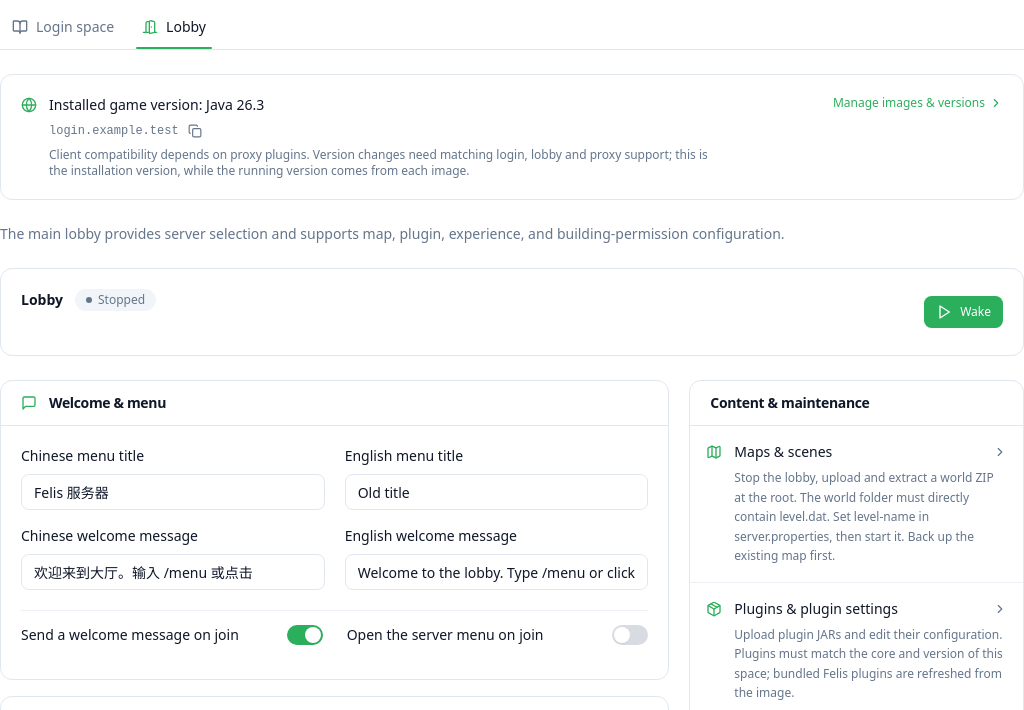
Scenario: LobbyPage › saves with the read hash and preserves unknown plugin settings
Replace the text in the field labelled "English menu title" with "My Network" at (497, 492), box [345, 474, 648, 510]
(page scrolled)
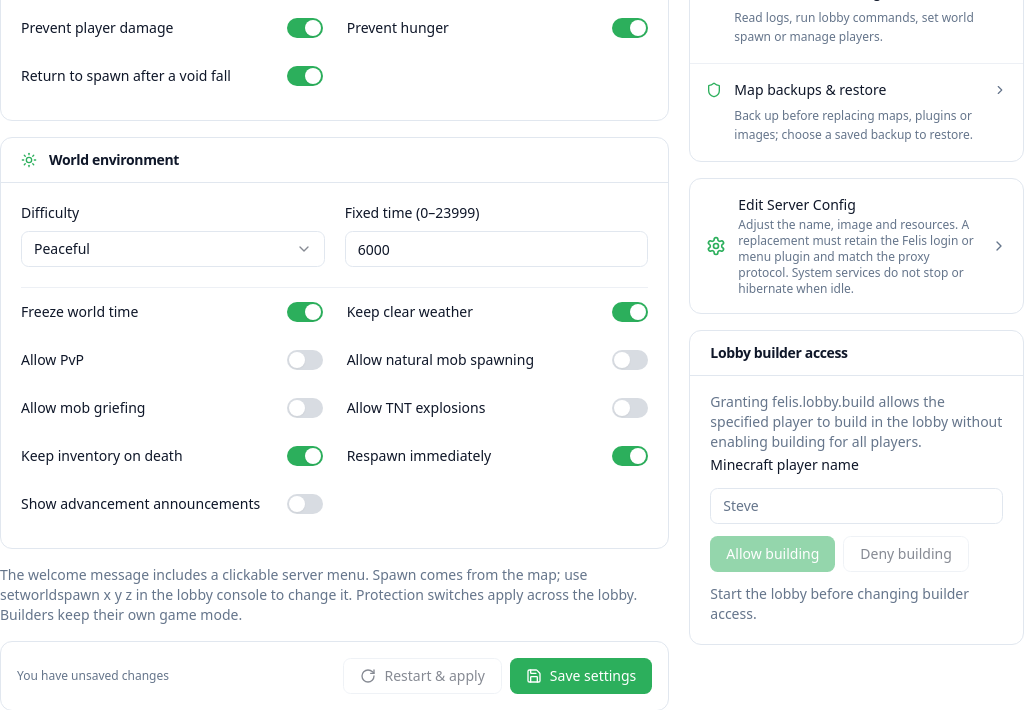
Click the button "Save settings" at (581, 676), box [510, 658, 652, 694]
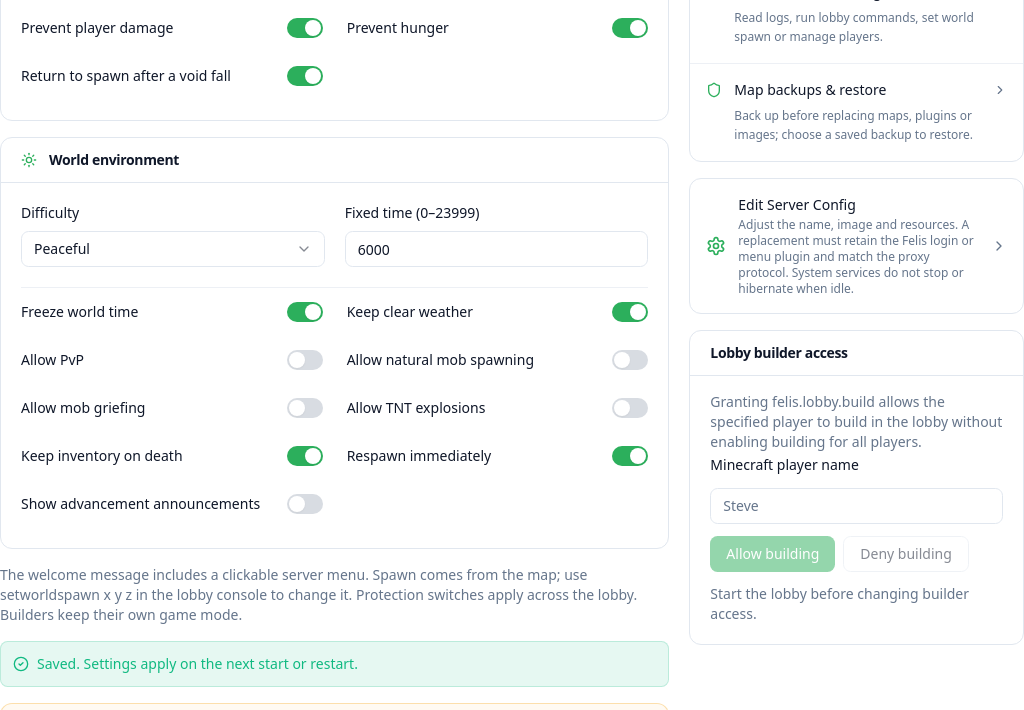
expect the text "Saved. Settings apply on the next start or restart." is shown: met, box [37, 654, 358, 674]
